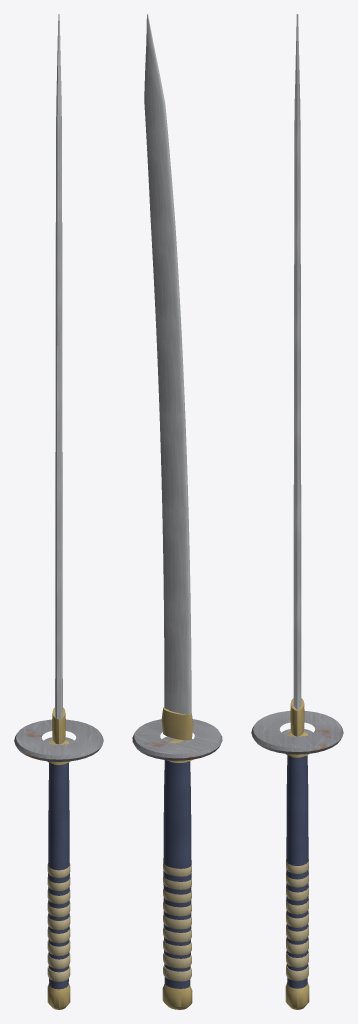
Rendered from dai_katana.glb.
3 views of the same model, side by side, from view 1: azimuth 90°, elevation 25°; view 2: azimuth 150°, elevation 25°; view 3: azimuth 270°, elevation 25° (orthographic). The views are drawn at different scales.
Visible parts, largest first — view 1: OUT; view 2: OUT; view 3: OUT.
Part boxes in pixels (left/top/right/bottom): OUT: left=14, top=14, right=103, bottom=1009; OUT: left=132, top=14, right=222, bottom=1009; OUT: left=251, top=14, right=343, bottom=1009.
Bounding box in the file's own units: 0.104 × 1.25 × 0.104.
5 materials, 5 textured.
